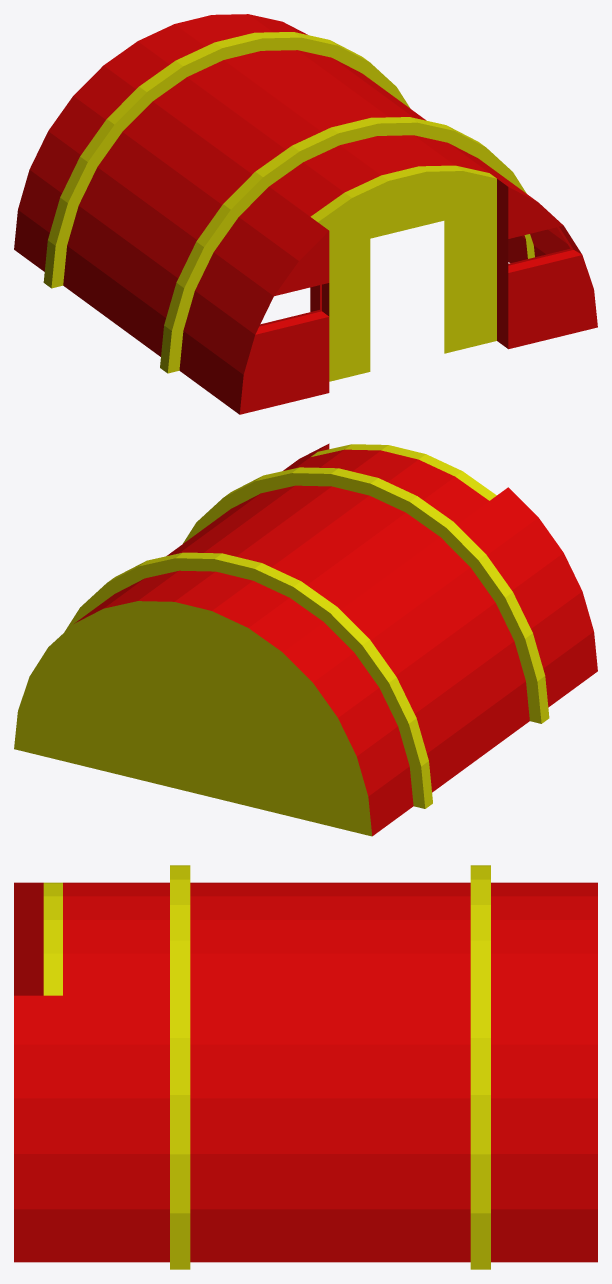
File: tentPat.fbx
3 renders of one model, top to bottom at view 1: azimuth 30°, elevation 25°; view 2: azimuth 150°, elevation 25°; view 3: azimuth 270°, elevation 25°, orthographic. The views are drawn at different scales.
Visible parts, largest first — view 1: pCylinder10; view 2: pCylinder10; view 3: pCylinder10.
Boxes of the visible parts, <box> form: pCylinder10: <box>14,14,597,414</box>; pCylinder10: <box>14,443,597,836</box>; pCylinder10: <box>14,865,597,1269</box>.
Size of the model in its own units: 4.32 by 2.15 by 4.42.
